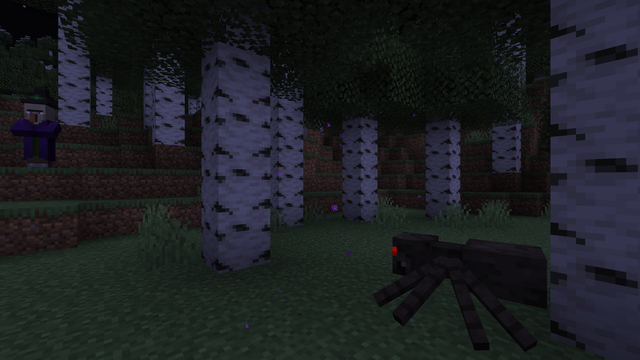araignees: (373, 222, 528, 352)
sorcieres: (22, 99, 54, 167)
